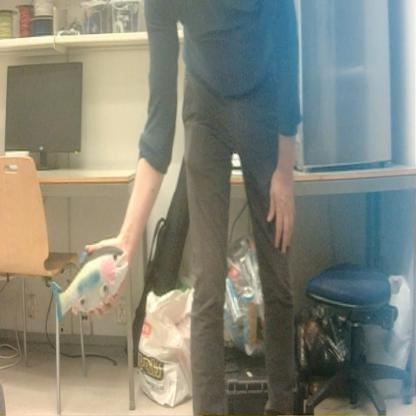rubberfish: (46, 239, 131, 328)
